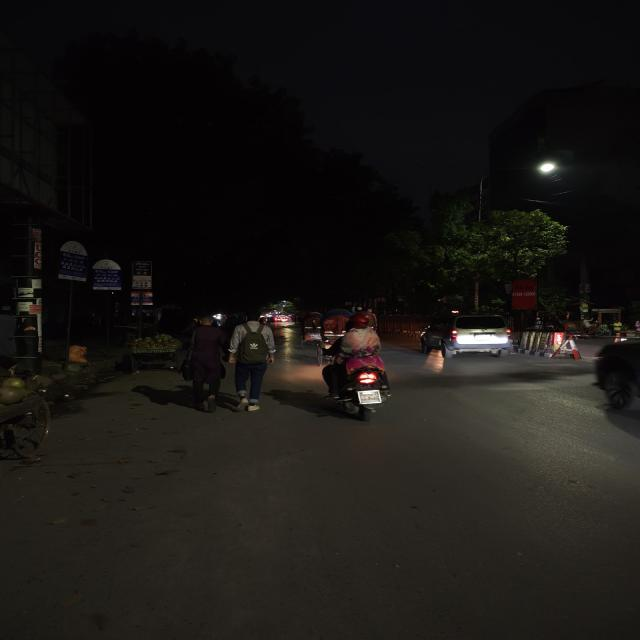car: (588, 331, 640, 435), (420, 311, 518, 361)
motorcycle: (314, 310, 395, 421)
pedestrian: (178, 312, 232, 412), (227, 312, 279, 411)
rickshaw: (0, 367, 63, 498), (119, 333, 180, 376)
